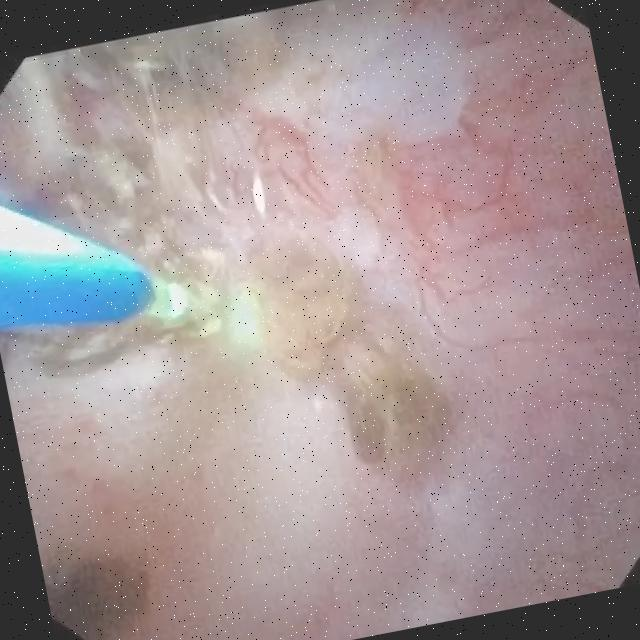laser-fibre: (148, 277, 189, 319)
laser_dot: (228, 289, 261, 346)
stone-new: (18, 29, 230, 295), (337, 335, 447, 469), (24, 303, 217, 375), (250, 240, 352, 375), (43, 552, 150, 640)
